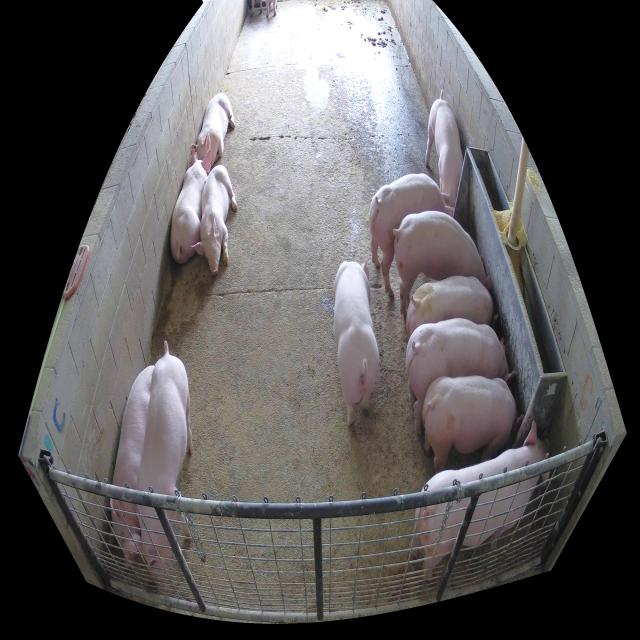pig: (408, 422, 551, 581), (405, 319, 517, 437), (137, 342, 193, 572), (369, 173, 454, 300), (393, 213, 491, 323), (422, 375, 525, 473), (109, 366, 156, 571), (333, 261, 379, 426), (406, 276, 498, 343), (192, 165, 238, 275), (170, 147, 212, 264), (426, 92, 464, 210), (190, 94, 235, 169)
